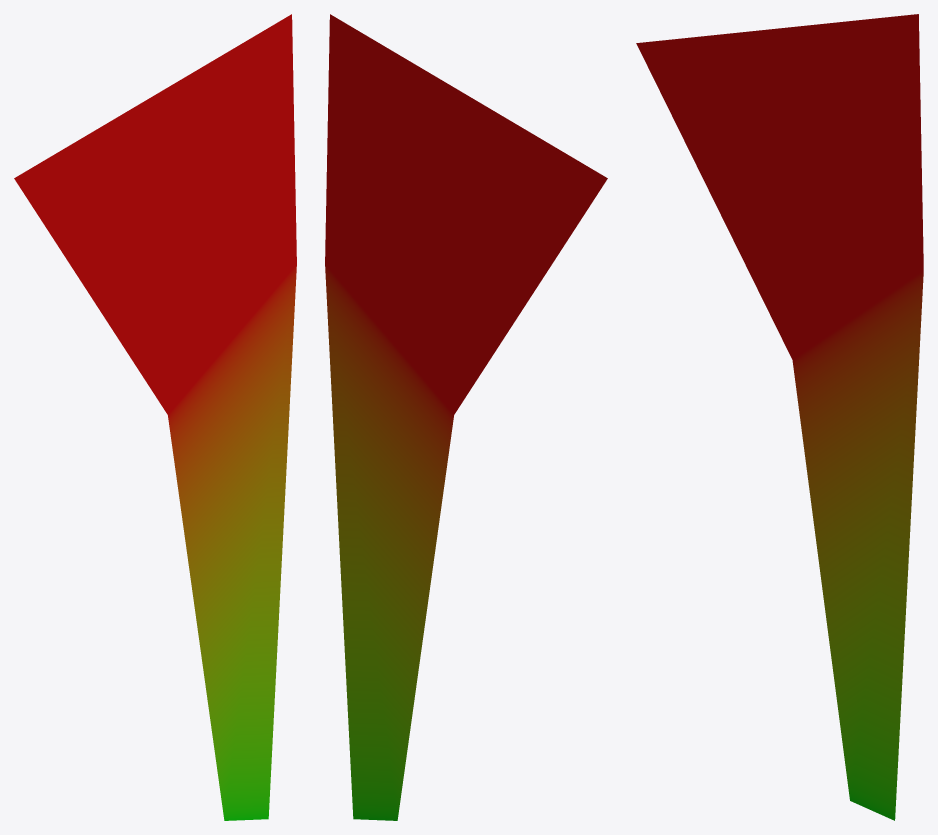
File: Sea Wheatgrass_LOD3_Var6_ui2oagjia.fbx
3 views of the same model, side by side, from view 1: azimuth 30°, elevation 25°; view 2: azimuth 150°, elevation 25°; view 3: azimuth 330°, elevation 25° (orthographic).
Visible parts, largest first — view 1: _ewg7_Var6_LOD3; view 2: _ewg7_Var6_LOD3; view 3: _ewg7_Var6_LOD3.
Part boxes in pixels (left/top/right/bottom): _ewg7_Var6_LOD3: left=14, top=14, right=296, bottom=820; _ewg7_Var6_LOD3: left=325, top=14, right=607, bottom=820; _ewg7_Var6_LOD3: left=636, top=14, right=923, bottom=820.
Size of the model in its own units: 23.97 by 64.71 by 2.83e-06.
